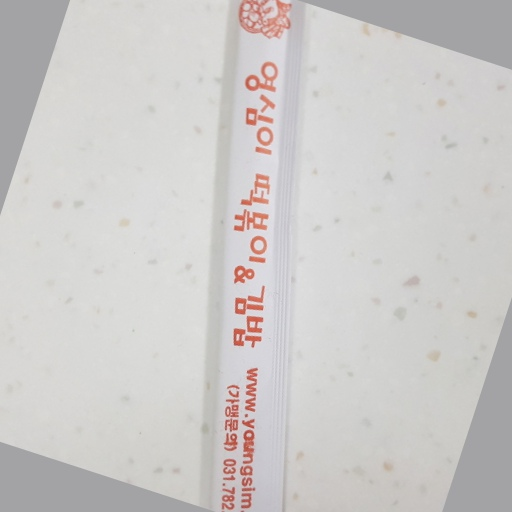Paper_2: (203, 1, 302, 512)
